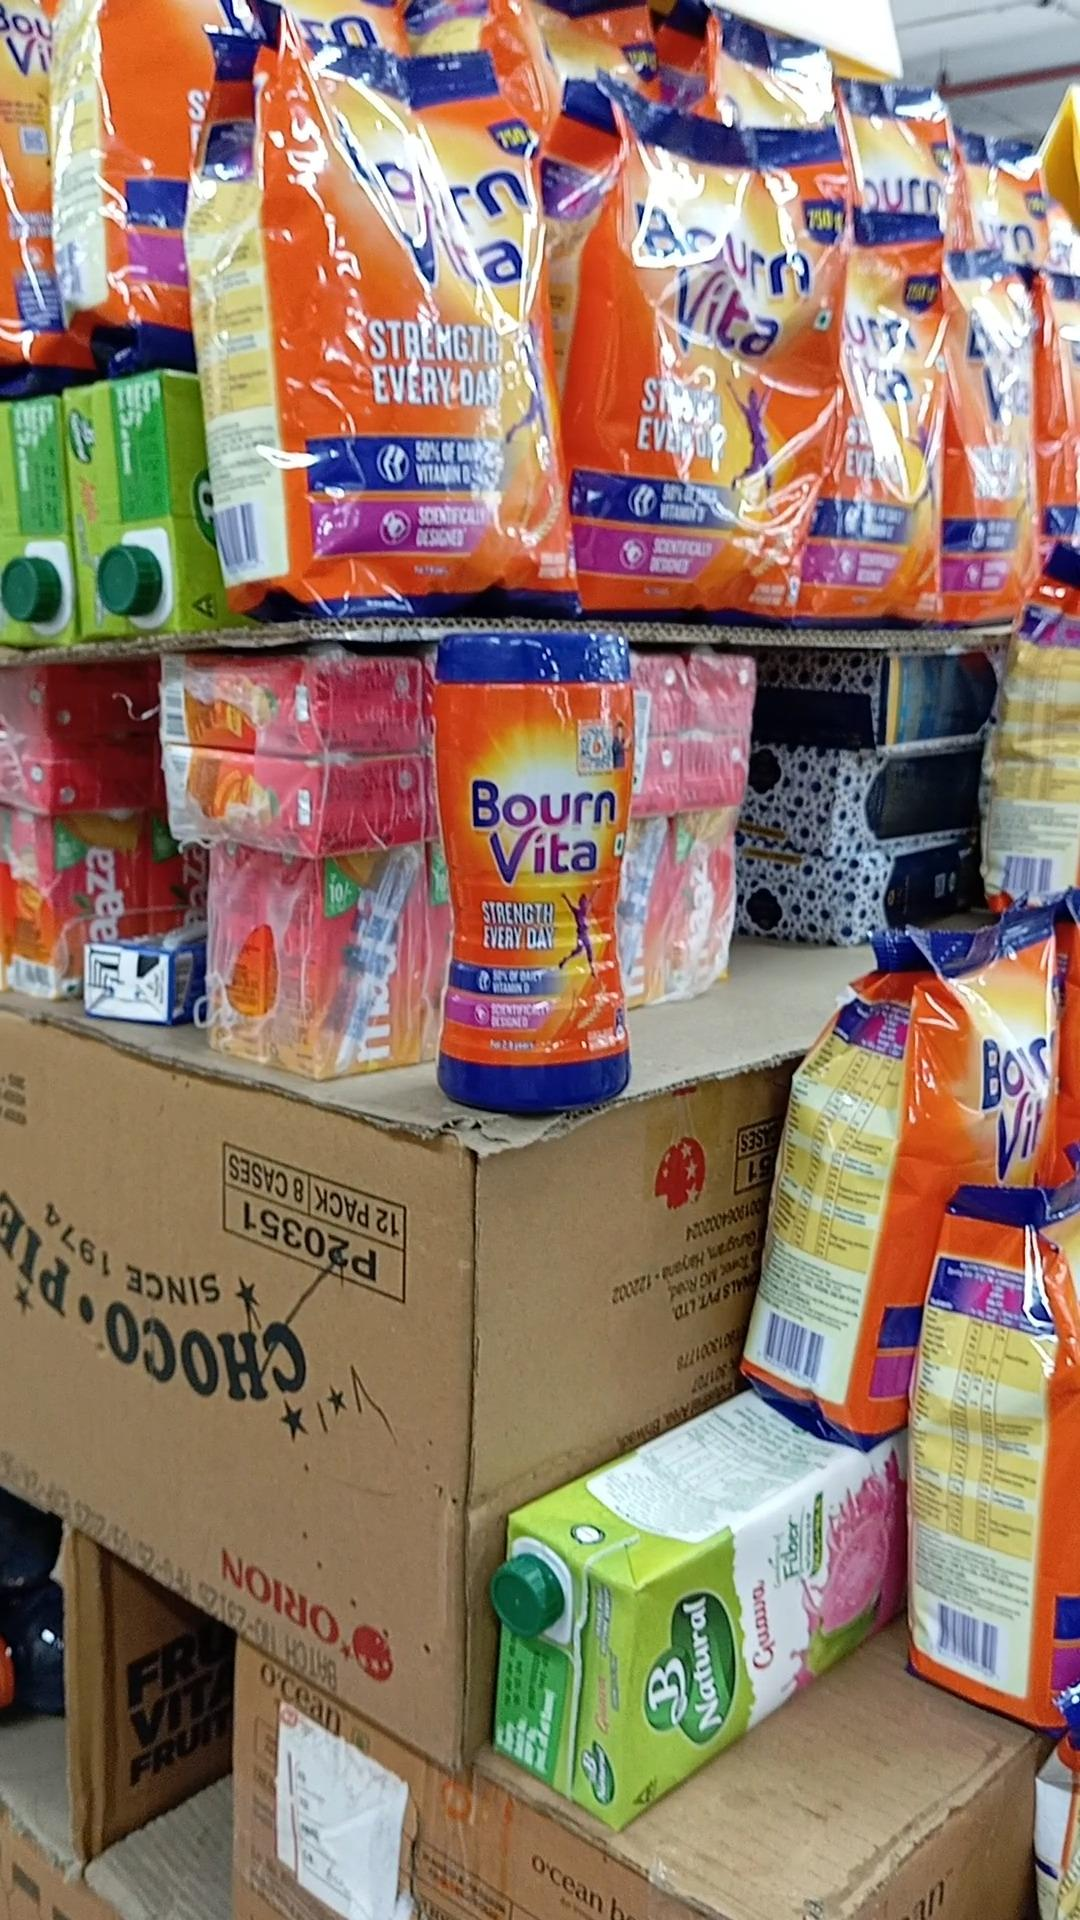BOURN_VITA_200_G_JAR: (440, 624, 629, 1105)
